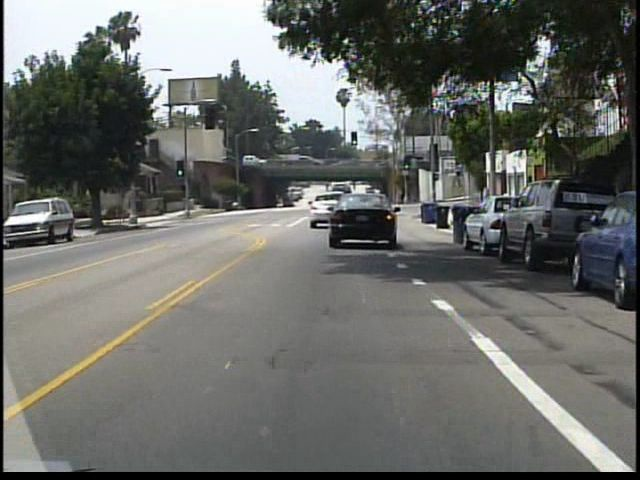person: (75, 200, 87, 229)
